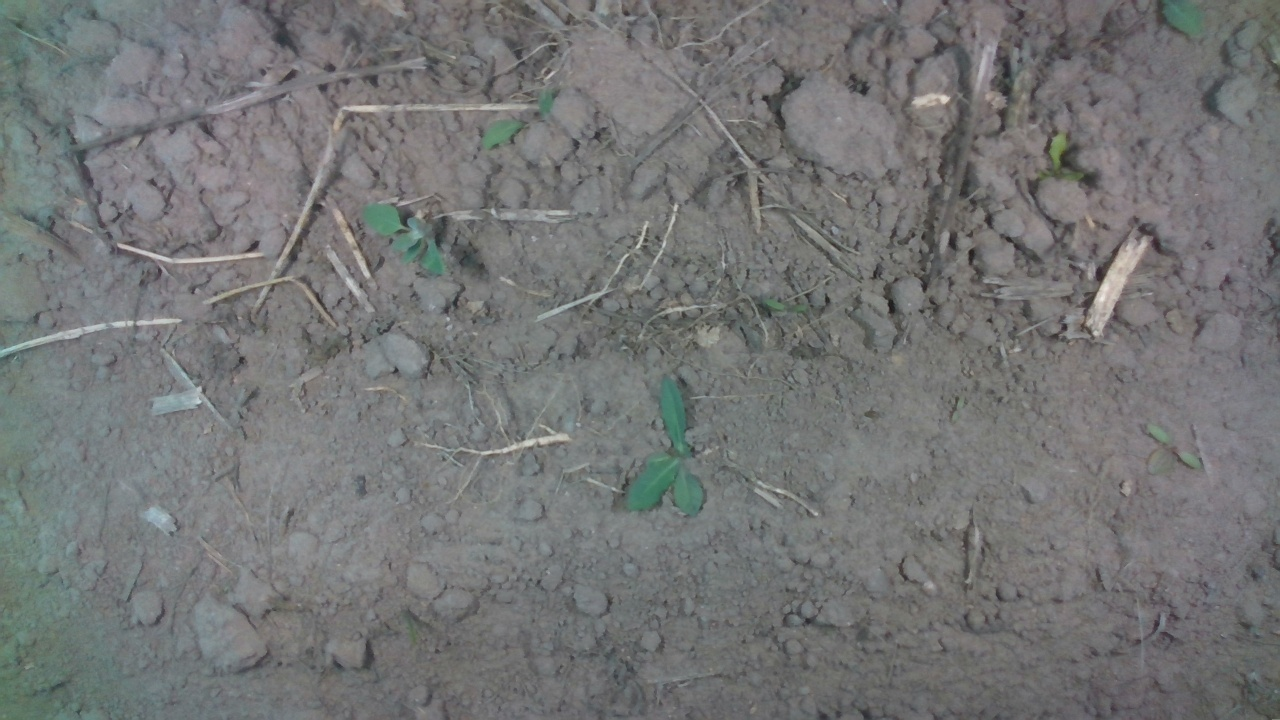weed: (623, 372, 707, 519), (357, 200, 446, 277), (1143, 419, 1203, 479), (763, 297, 811, 311)
